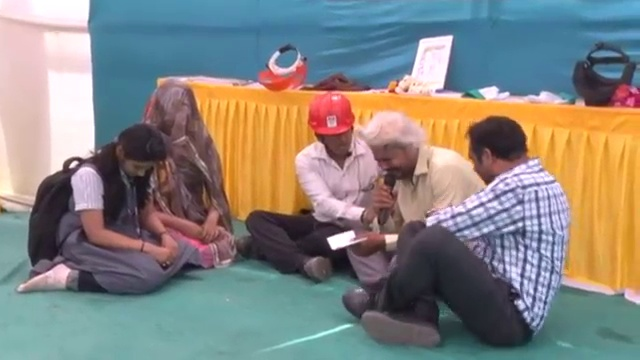helmet: (306, 92, 357, 137)
helmet_off: (457, 117, 542, 190), (367, 110, 427, 182), (105, 123, 169, 185), (153, 80, 198, 137)
helmet_on: (305, 90, 358, 163)
person: (341, 118, 572, 350), (7, 124, 198, 297), (235, 90, 382, 283), (345, 110, 481, 287), (137, 78, 238, 272)
